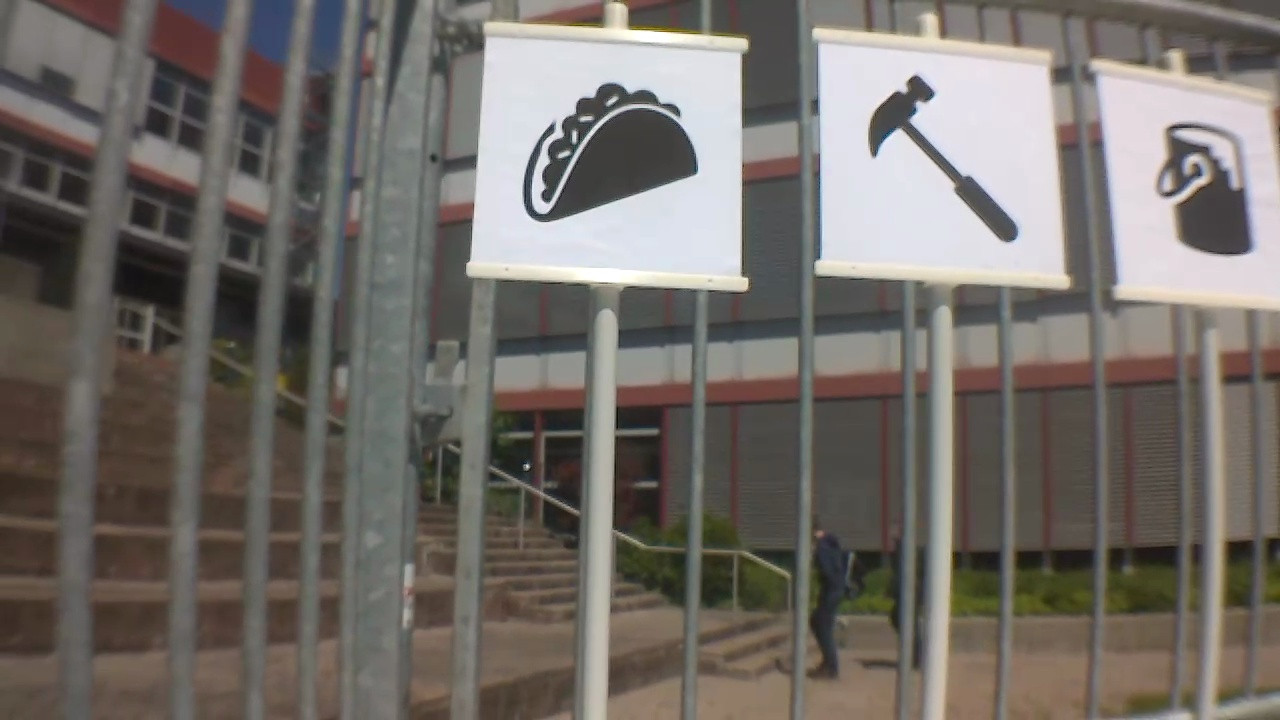bucket: (1147, 121, 1255, 266)
hammer: (862, 77, 1026, 242)
taco: (524, 88, 694, 226)
